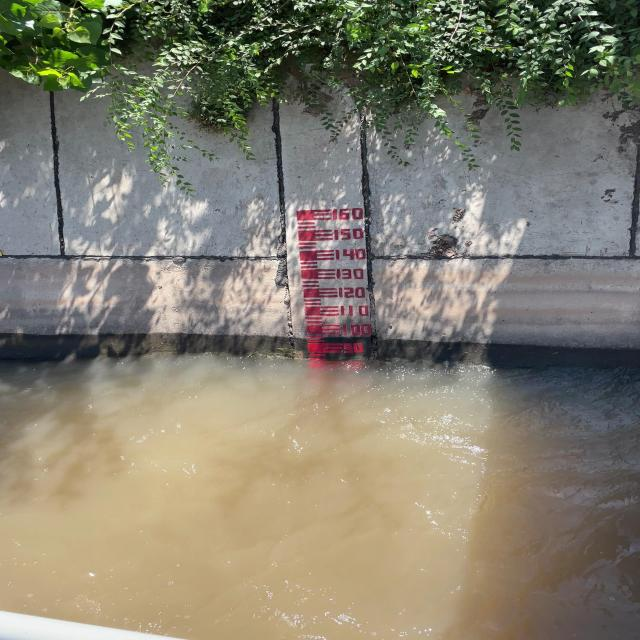ruler: (291, 206, 378, 359)
value: (330, 228, 369, 244), (329, 206, 367, 222), (332, 246, 368, 262), (334, 268, 370, 283), (341, 322, 374, 338), (339, 304, 371, 319), (335, 286, 369, 300), (342, 342, 368, 356)
